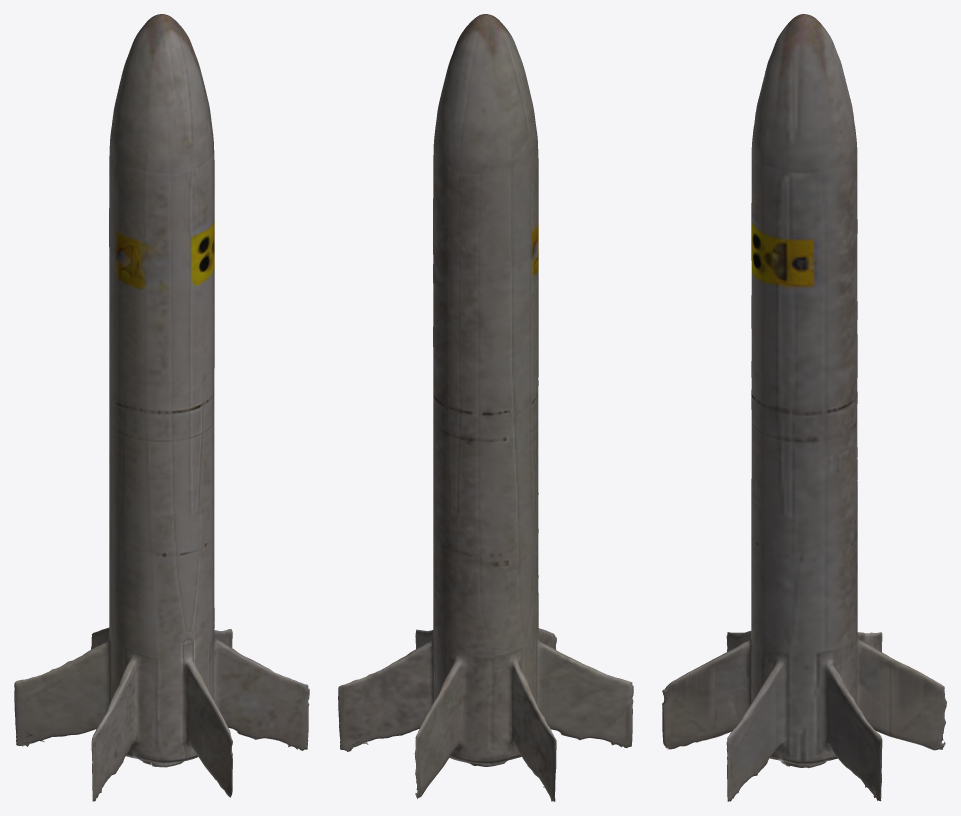
File: rocket.glb
3 views of the same model, side by side, from view 1: azimuth 30°, elevation 25°; view 2: azimuth 150°, elevation 25°; view 3: azimuth 270°, elevation 25° (orthographic).
Parts seen in each view (by area): view 1: file1; view 2: file1; view 3: file1.
Boxes of the visible parts, x1=… form: file1: x1=14, y1=14, x2=309, y2=801; file1: x1=338, y1=14, x2=633, y2=801; file1: x1=662, y1=14, x2=946, y2=801.
Bounding box in the file's own units: 0.614 × 2 × 0.6934.
1 material, 1 textured.
